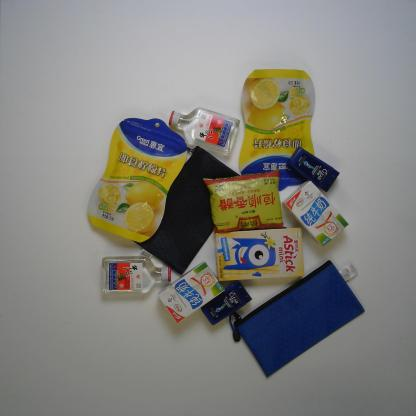Alcohol: (163, 102, 236, 160), (101, 249, 172, 297)
Dessert: (208, 228, 312, 287)
Dried Fruit: (86, 116, 190, 244), (235, 62, 326, 187)
Milk: (160, 257, 223, 322), (284, 181, 347, 241)
Personal Hygiene: (281, 147, 345, 193), (196, 279, 250, 324)
Seasoner: (208, 167, 291, 235)
Stationery: (230, 257, 368, 377), (134, 150, 242, 273)
